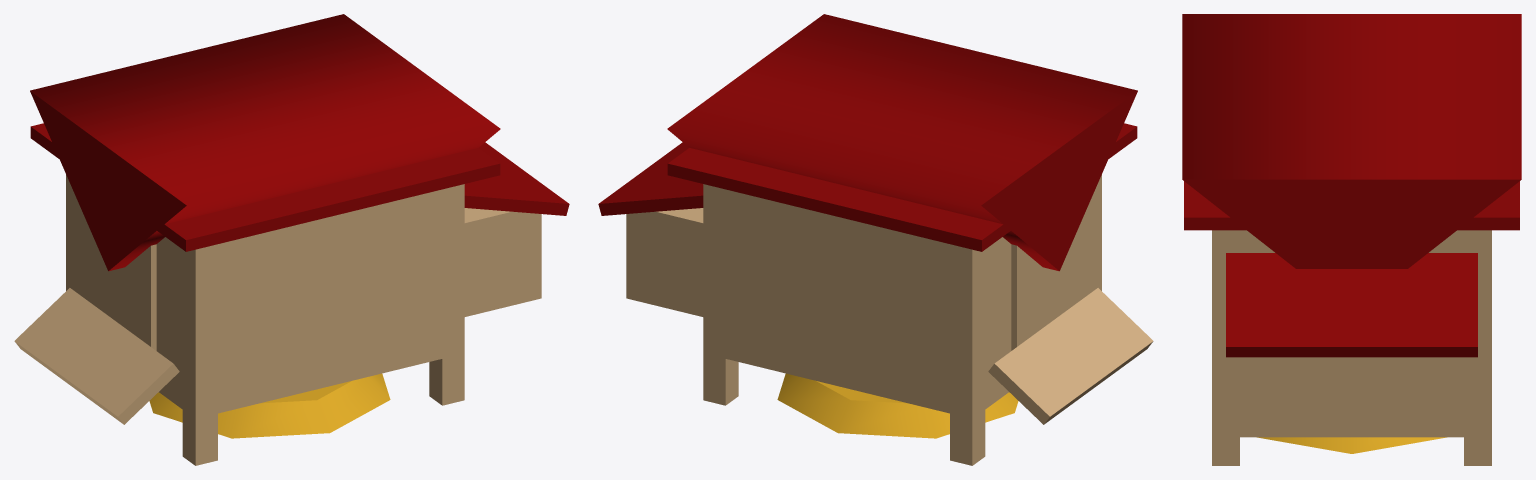
File: chickencoop.glb
The picture shows the model from 3 angles, left to right: view 1: azimuth 30°, elevation 25°; view 2: azimuth 150°, elevation 25°; view 3: azimuth 270°, elevation 25°; orthographic projection. The views are drawn at different scales.
Visible parts, largest first — view 1: chickencoop, door_group; view 2: chickencoop, door_group; view 3: chickencoop.
Boxes of the visible parts, bbox=[...] form: chickencoop: bbox=[14, 14, 569, 465]; door_group: bbox=[99, 244, 156, 350]; chickencoop: bbox=[598, 14, 1153, 465]; door_group: bbox=[1011, 244, 1068, 350]; chickencoop: bbox=[1182, 14, 1521, 465].
Size of the model in its own units: 1.98 by 1.18 by 1.21.
